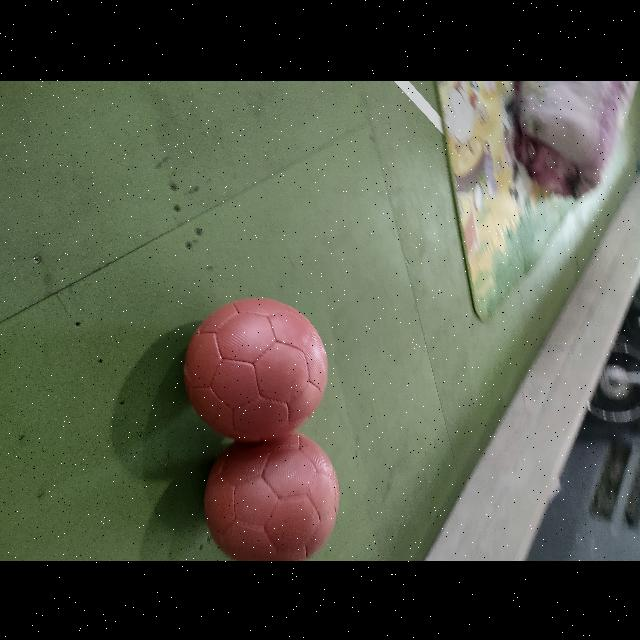R: (185, 298, 328, 440), (205, 432, 339, 560)
